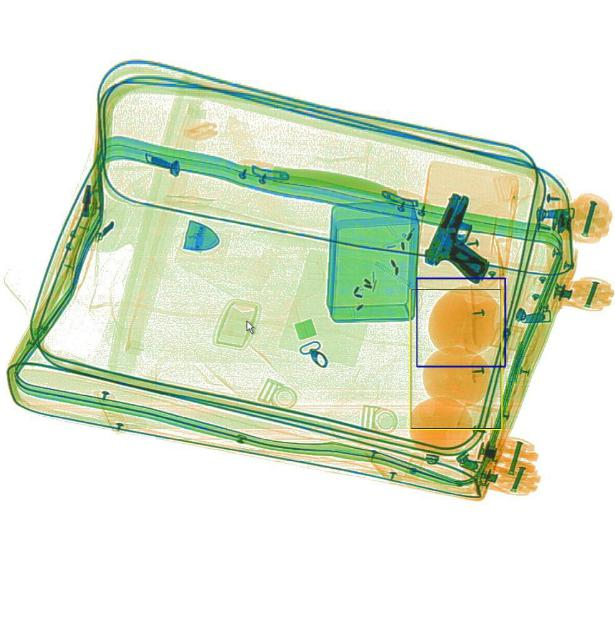Gun: (424, 190, 507, 282)
